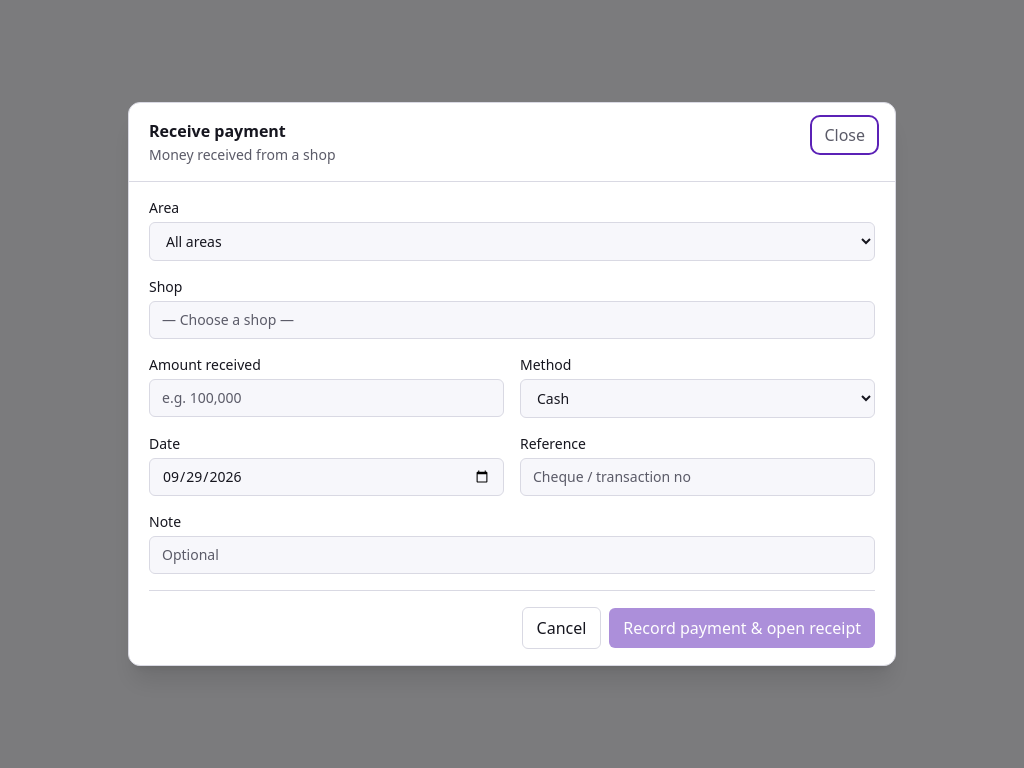
Test: Receive: allocation preview › shows the balance and previews the oldest-first split live
Click the dropdown labelled "Shop" at (512, 320), box [149,301,875,339]
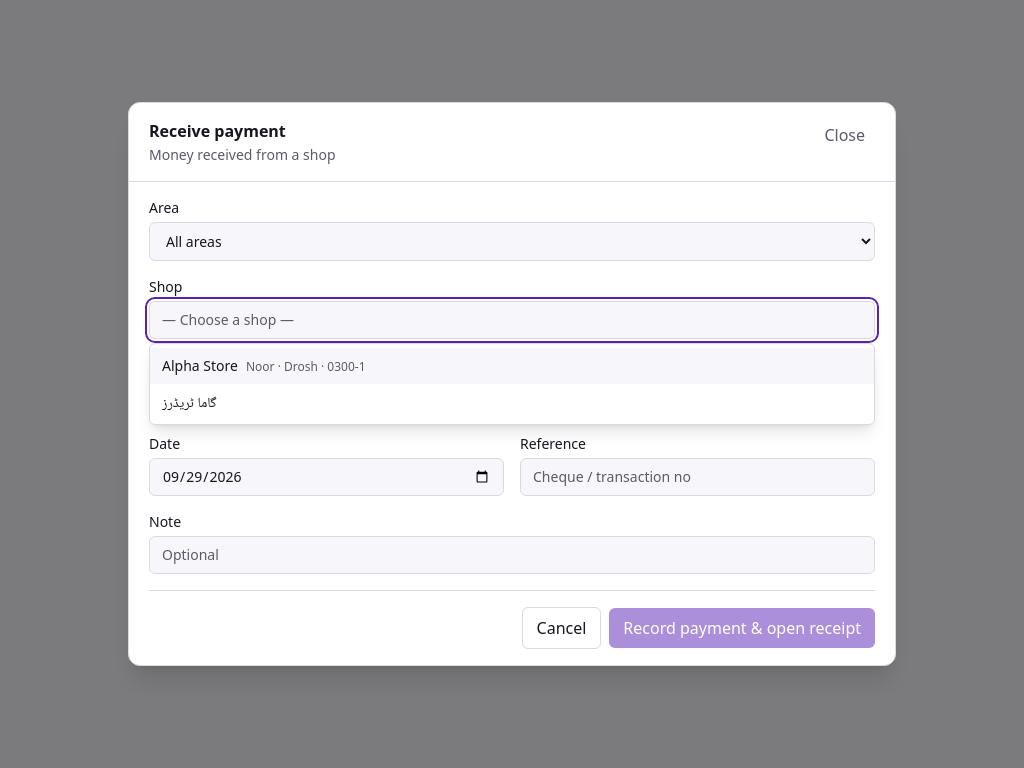
Click the option "Alpha Store" at (200, 366), box [150,348,874,384]
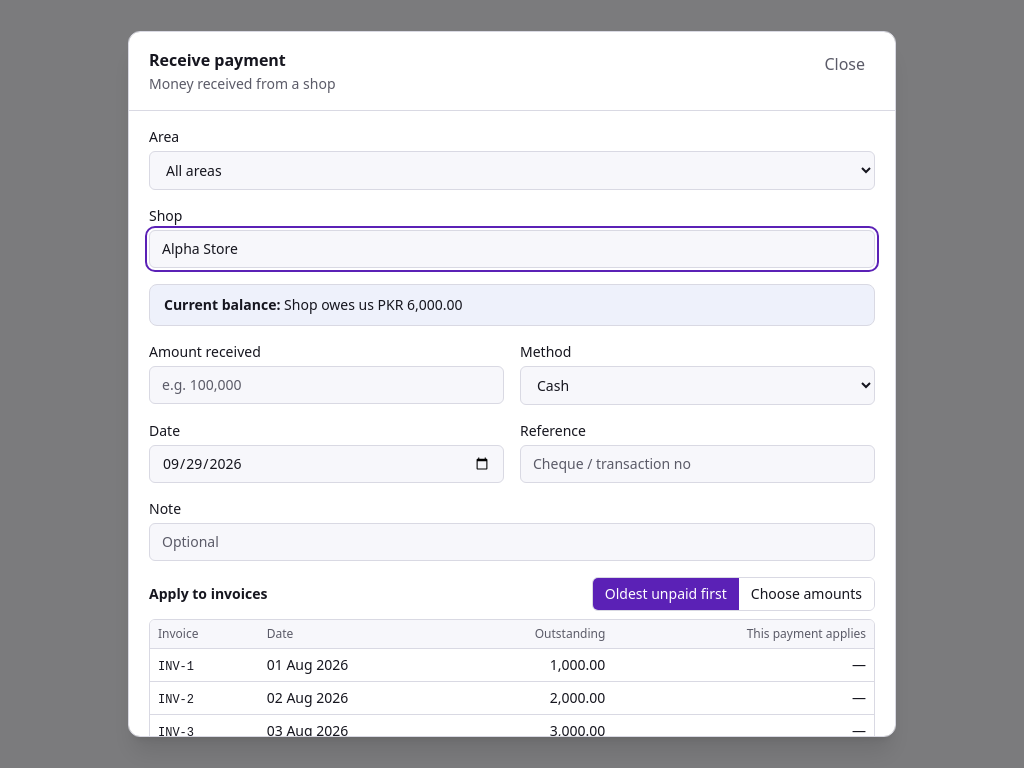
Now the text "Current balance: Shop owes us PKR 6,000.00" is shown, box [164,295,463,314]
Type "2,500" into the field labelled "Amount received" at (326, 385), box [149,366,504,404]
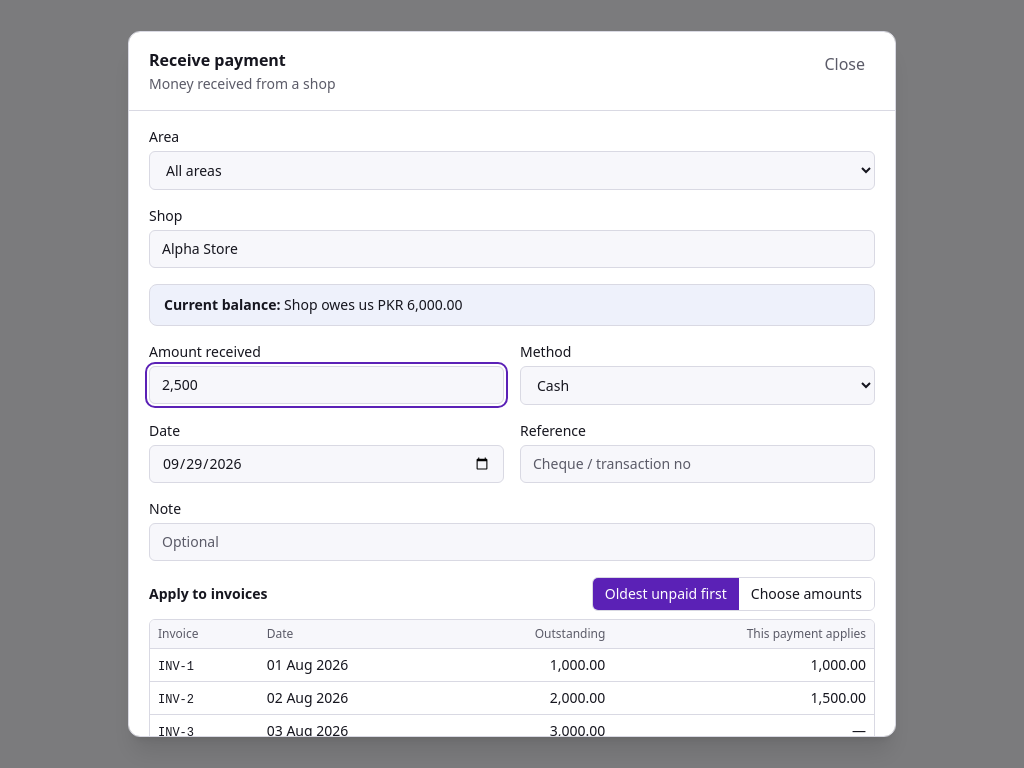
Now the elements with test id "alloc-preview" read "1,000.00", "1,500.00", "—", in this order, box [810,655,866,674]; [810,688,866,707]; [852,721,866,737]
Replace the text in the field labelled "Amount received" with "7,000" at (326, 385), box [149,366,504,404]
(page scrolled)
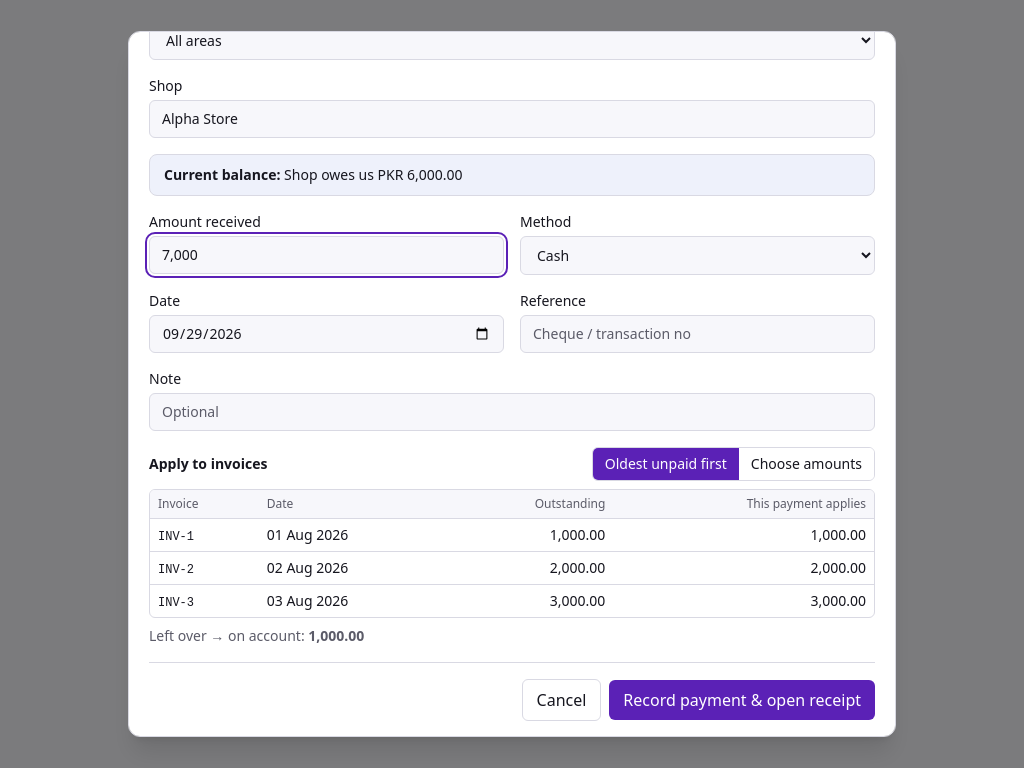
Now the text with test id "left-over" reads "1,000.00", box [308,626,364,645]
